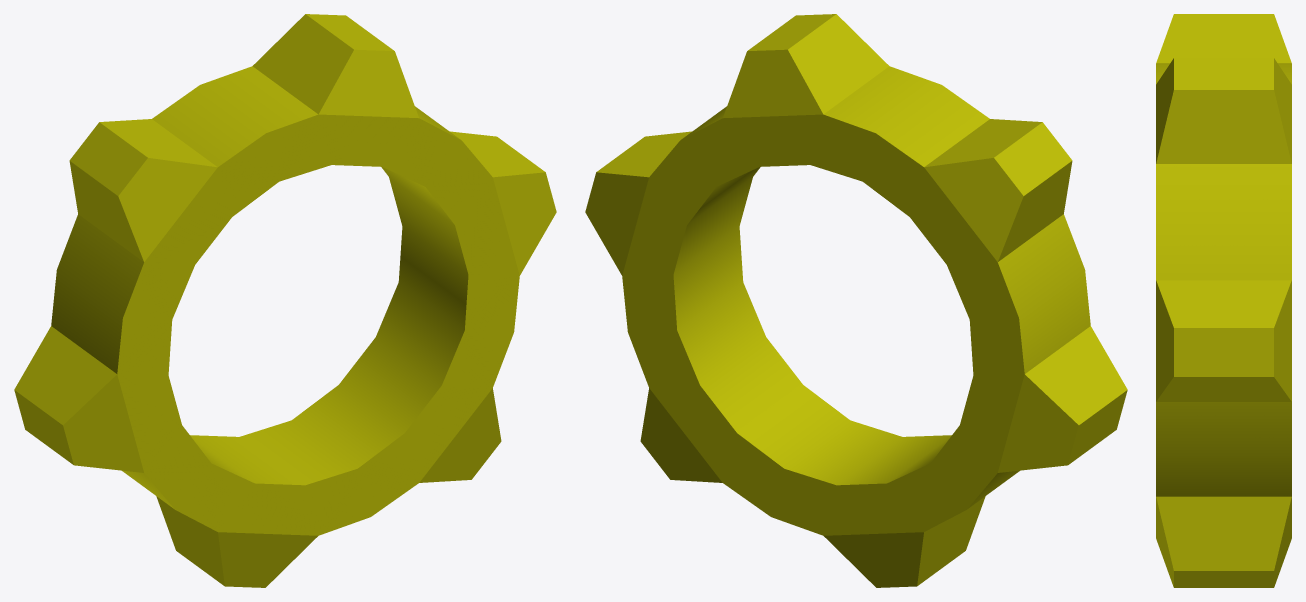
File: gear.glb
The picture shows the model from 3 angles, left to right: view 1: azimuth 30°, elevation 25°; view 2: azimuth 150°, elevation 25°; view 3: azimuth 270°, elevation 25°; orthographic projection. The views are drawn at different scales.
Parts seen in each view (by area): view 1: gear; view 2: gear; view 3: gear.
Boxes of the visible parts, left/top/right/bottom form: gear: left=14, top=14, right=556, bottom=587; gear: left=585, top=14, right=1127, bottom=587; gear: left=1156, top=14, right=1291, bottom=587.
Size of the model in its own units: 1.58 by 1.58 by 0.3658.
1 material, 1 textured.
